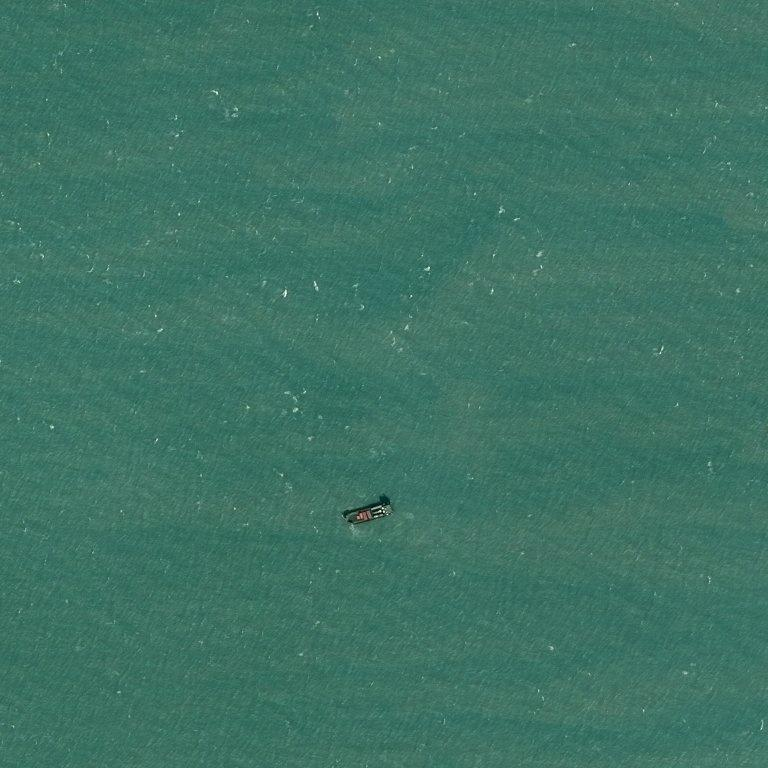ship: (344, 503, 393, 526), (346, 516, 350, 522), (389, 510, 393, 516), (385, 504, 389, 508)
